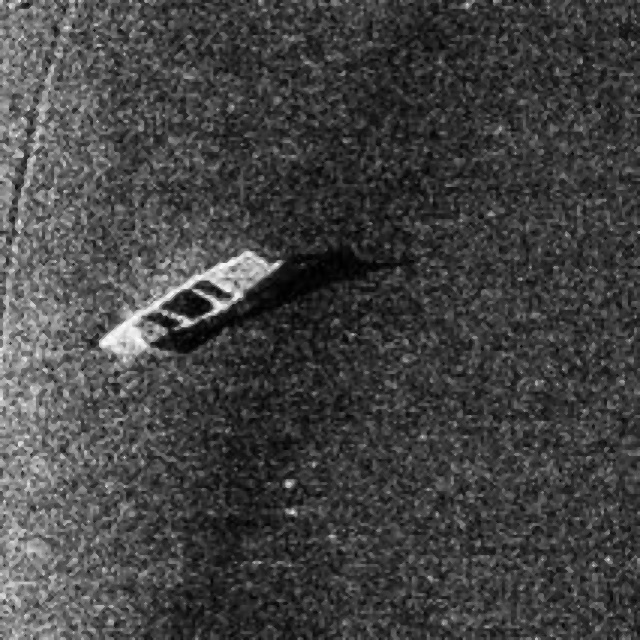Ship: (84, 227, 322, 383)
